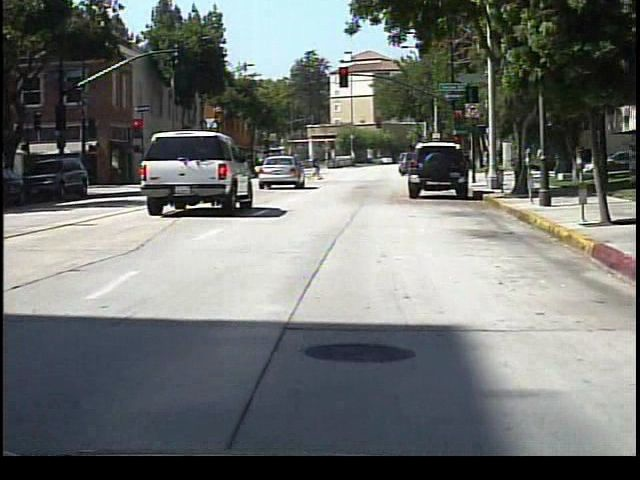person: (535, 140, 554, 183), (461, 153, 477, 183), (312, 155, 327, 184)
